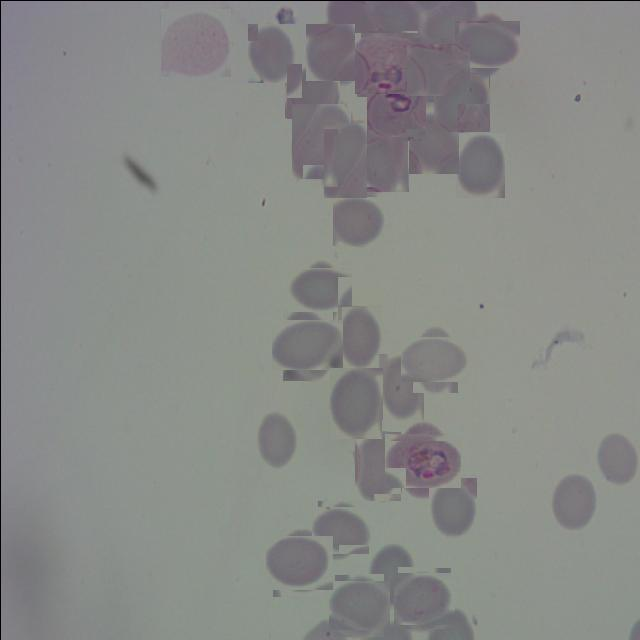leukocyte: (160, 8, 230, 76), (291, 102, 351, 178), (276, 314, 338, 374), (329, 367, 381, 438), (268, 532, 329, 592), (409, 40, 467, 98), (323, 121, 367, 197), (433, 72, 489, 131), (354, 430, 401, 500), (406, 110, 458, 173), (395, 569, 452, 626), (352, 134, 408, 192), (458, 15, 514, 72), (406, 329, 462, 386), (455, 132, 504, 197), (331, 577, 386, 633), (377, 353, 422, 419), (368, 544, 414, 608), (428, 477, 476, 538), (292, 262, 346, 316), (284, 64, 338, 118), (247, 22, 295, 82), (337, 304, 382, 368), (548, 471, 596, 531), (314, 503, 367, 557), (305, 24, 354, 82), (595, 428, 640, 486), (333, 195, 384, 246), (256, 408, 298, 468)
schizont: (388, 428, 454, 492), (354, 32, 418, 94), (367, 82, 423, 138)
